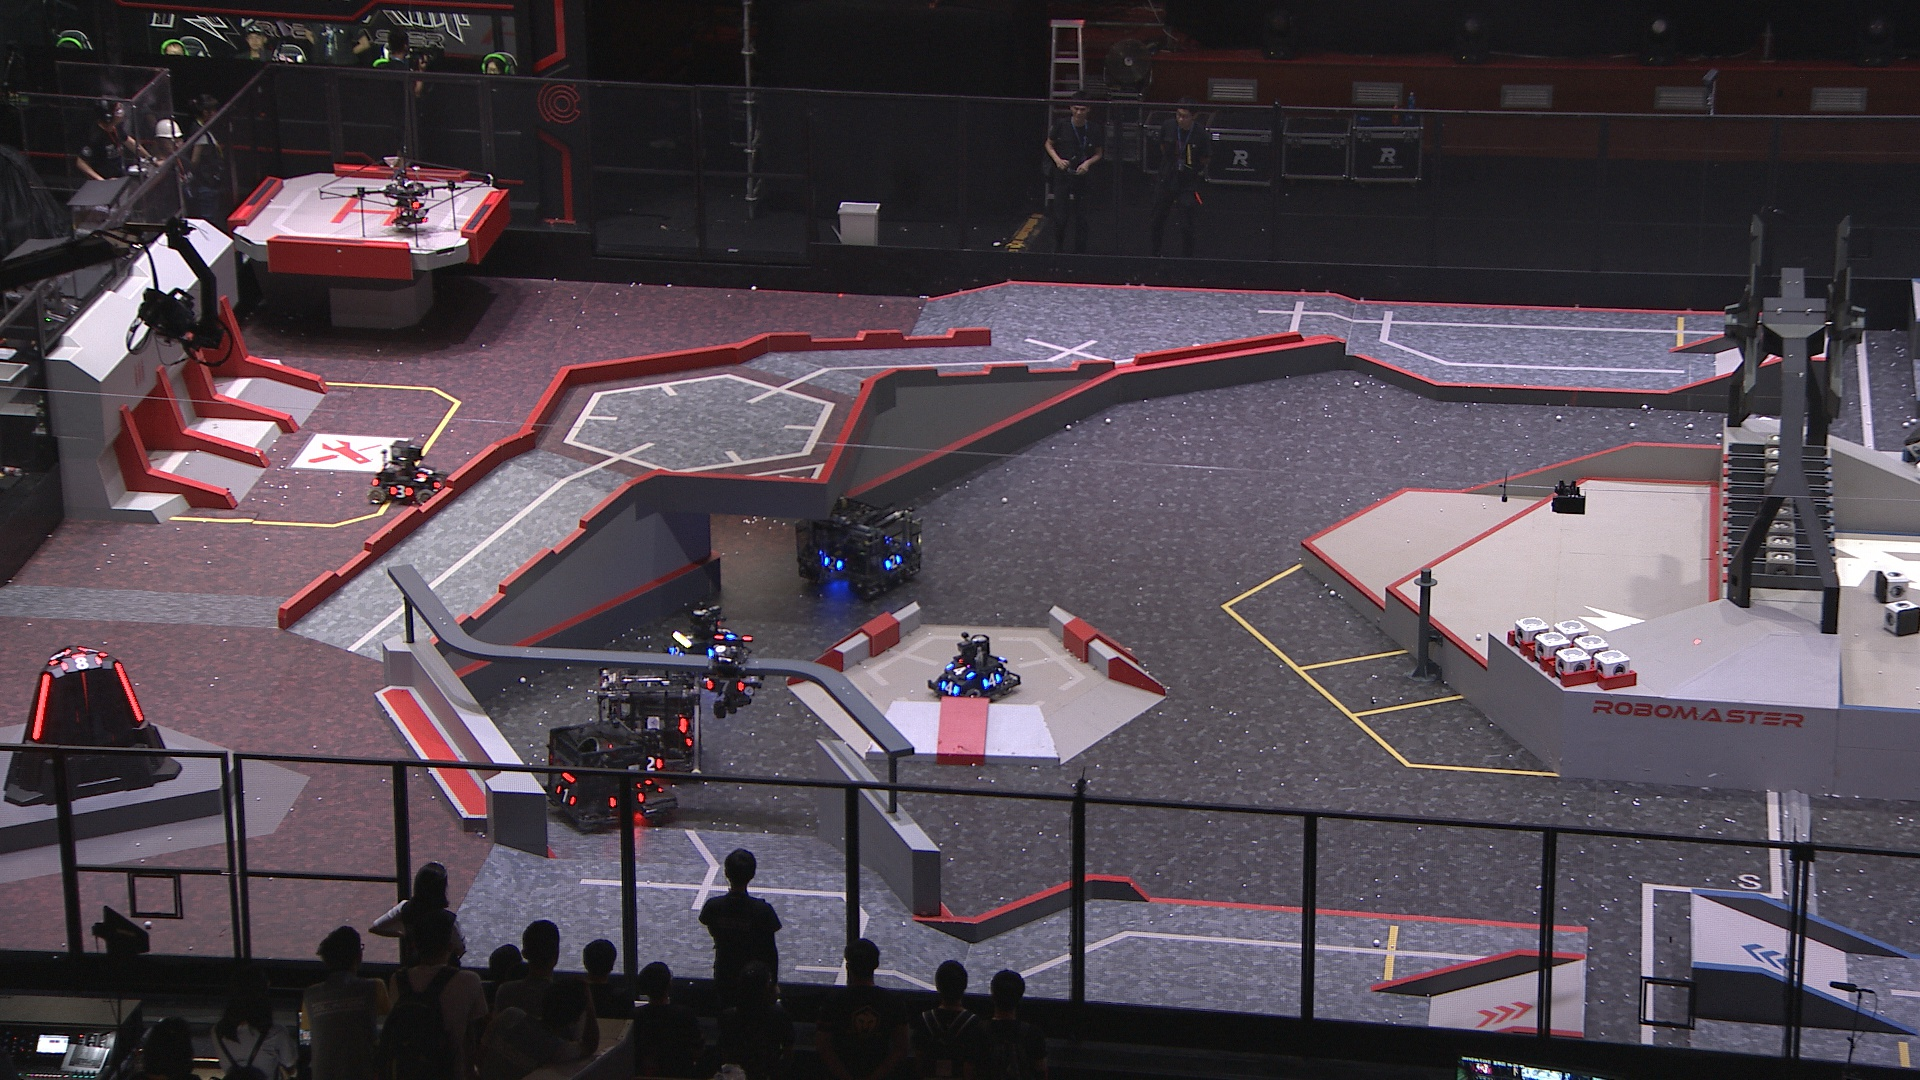armor: (112, 659, 142, 723), (32, 669, 50, 737), (63, 654, 105, 673), (708, 676, 742, 694), (47, 641, 71, 665), (553, 783, 575, 808), (76, 671, 90, 713), (882, 553, 907, 570), (948, 659, 973, 676), (641, 756, 665, 773), (982, 670, 1002, 688), (389, 483, 411, 498), (822, 556, 843, 572), (415, 463, 433, 480), (940, 679, 959, 695), (717, 622, 736, 638), (667, 642, 684, 657)
base: (0, 636, 179, 806)
car: (546, 719, 679, 836), (789, 489, 926, 593), (588, 662, 711, 775), (363, 436, 456, 510), (927, 636, 1022, 708), (662, 603, 745, 671)
watcher: (707, 632, 764, 716)
